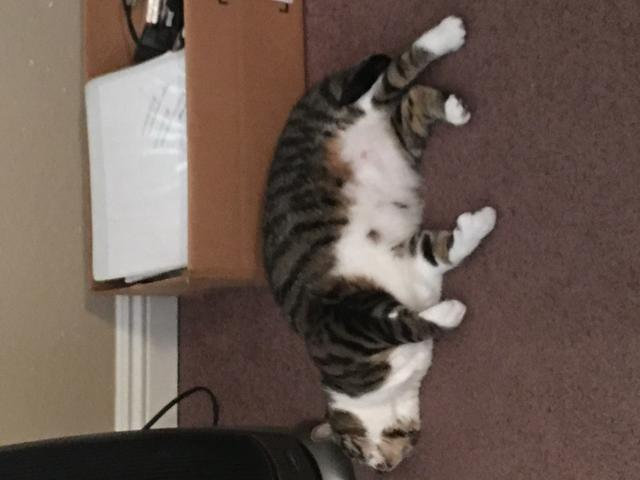playdoh: (257, 12, 497, 473)
